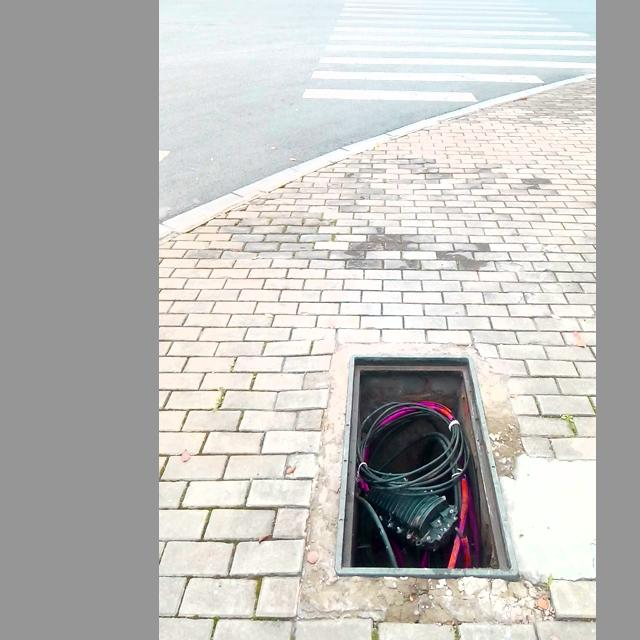lose: (289, 335, 533, 632)
